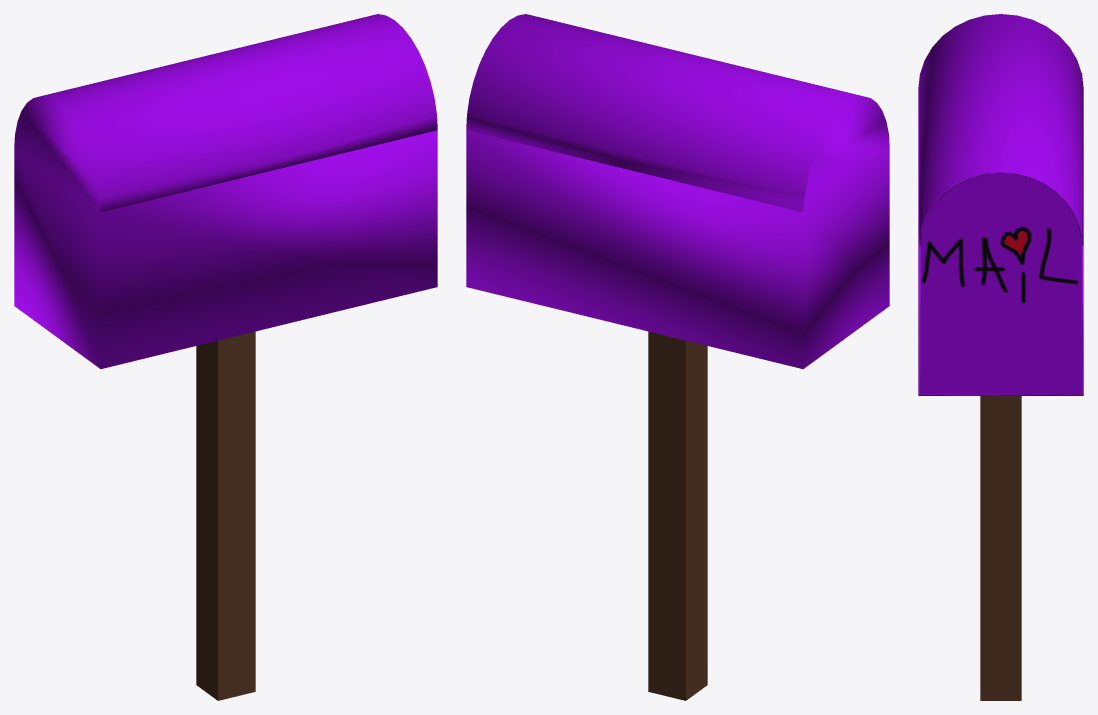
Rendered from Mailbox.glb.
The picture shows the model from 3 angles, left to right: view 1: azimuth 30°, elevation 25°; view 2: azimuth 150°, elevation 25°; view 3: azimuth 270°, elevation 25°; orthographic projection. The views are drawn at different scales.
Parts seen in each view (by area): view 1: Cylinder.083, Cube.145; view 2: Cylinder.083, Cube.145; view 3: Cylinder.082, Cylinder.083, Cube.145.
Boxes of the visible parts, x1,y1,x2,y2 form: Cylinder.083: [14, 14, 437, 368]; Cube.145: [196, 331, 255, 700]; Cylinder.083: [466, 14, 889, 368]; Cube.145: [648, 331, 707, 700]; Cylinder.082: [920, 173, 1081, 394]; Cylinder.083: [918, 14, 1083, 395]; Cube.145: [980, 396, 1021, 700].
Size of the model in its own units: 3.21 by 5.7 by 1.42.
Materials: 3 (1 with a texture image).
